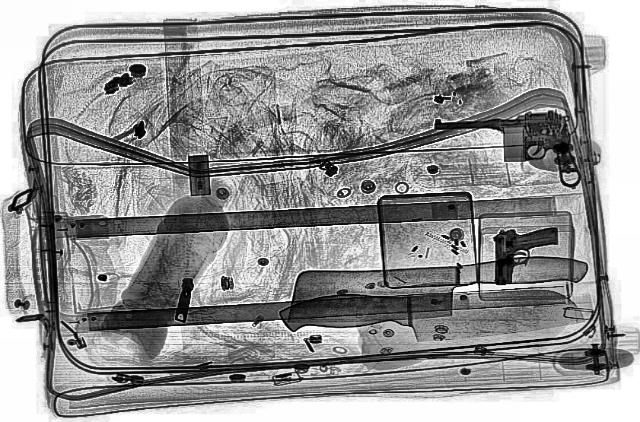Gun: (427, 106, 583, 194), (488, 228, 566, 285)
Knife: (292, 254, 590, 326), (271, 288, 581, 344)
